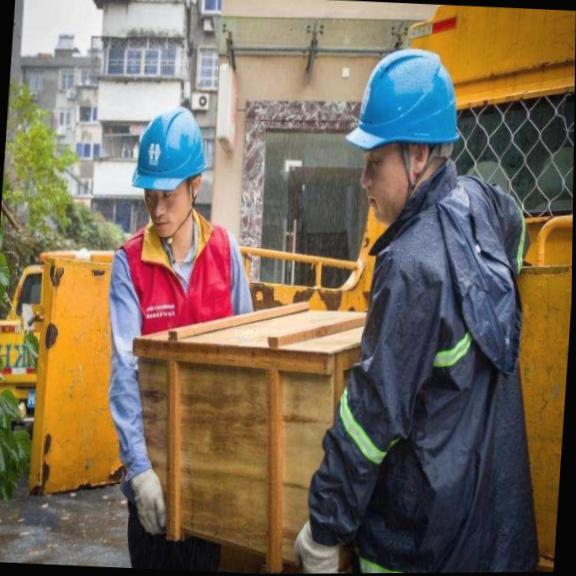no_safety_vest: (296, 194, 567, 574), (87, 220, 262, 544)
